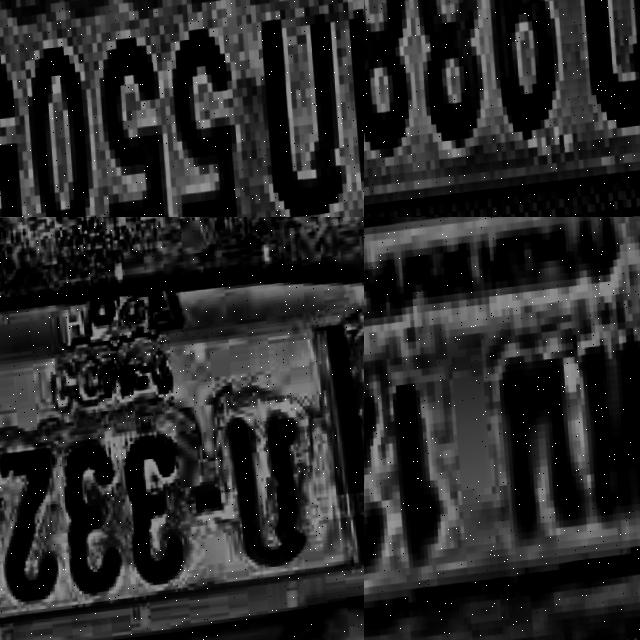license-plate: (0, 237, 364, 640), (364, 217, 640, 640), (0, 0, 364, 217), (364, 0, 640, 217)
